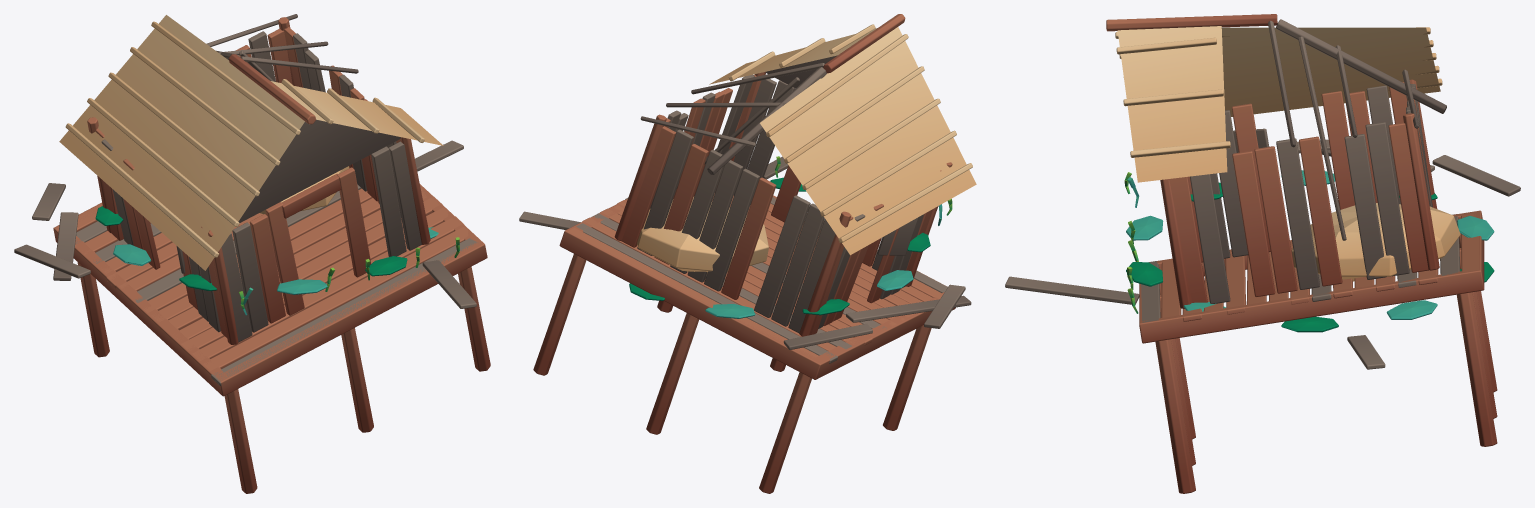
The model's file is stilt_hut_sunken.glb.
The picture shows the model from 3 angles, left to right: view 1: azimuth 30°, elevation 25°; view 2: azimuth 150°, elevation 25°; view 3: azimuth 270°, elevation 25°; orthographic projection. The views are drawn at different scales.
Parts seen in each view (by area): view 1: stilt_hut_sunken; view 2: stilt_hut_sunken; view 3: stilt_hut_sunken.
Part boxes in pixels (box(x1,y1,x2,y2)): stilt_hut_sunken: box(14, 14, 490, 493); stilt_hut_sunken: box(519, 14, 976, 493); stilt_hut_sunken: box(1005, 14, 1520, 493).
Bounding box in the file's own units: 8.02 × 6.99 × 7.44.
1 material, 1 textured.
